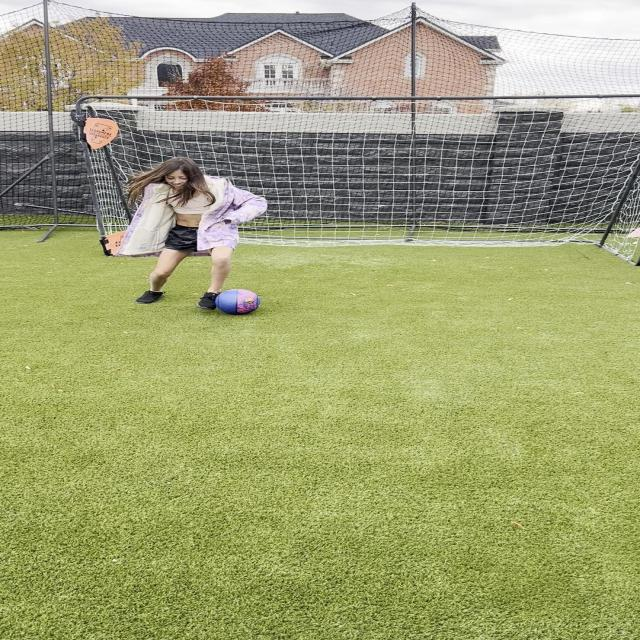Soccer Ball: (214, 289, 260, 315)
